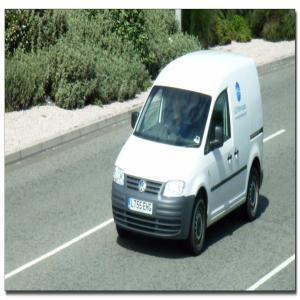Vehicle-registration-plate: (128, 198, 154, 215)
